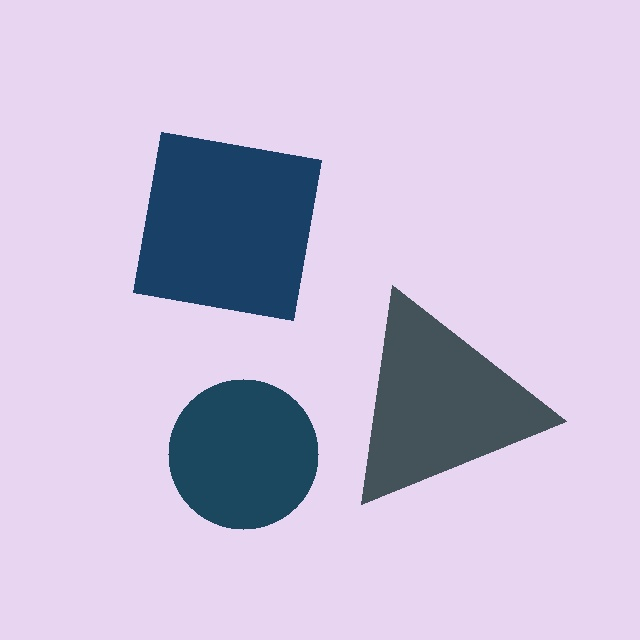circle: (168, 379, 319, 529)
square: (132, 132, 321, 320)
triangle: (361, 284, 567, 504)
